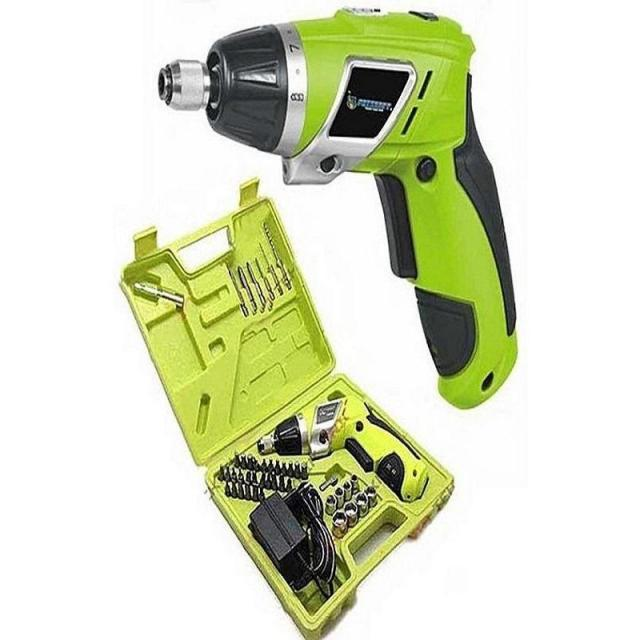drill: (157, 6, 518, 411), (257, 396, 431, 502)
